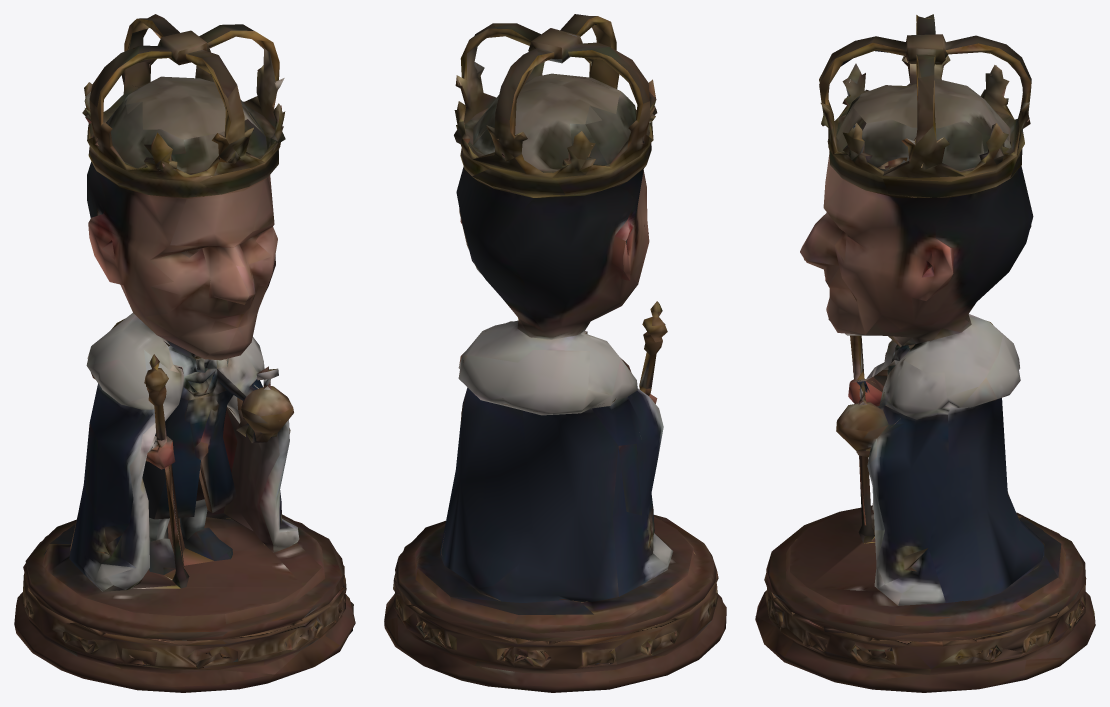
The model's file is king-riccardo-10k.glb.
3 views of the same model, side by side, from view 1: azimuth 30°, elevation 25°; view 2: azimuth 150°, elevation 25°; view 3: azimuth 270°, elevation 25° (orthographic).
Visible parts, largest first — view 1: tmpl12bltyu.ply; view 2: tmpl12bltyu.ply; view 3: tmpl12bltyu.ply.
Part boxes in pixels (x1=…): tmpl12bltyu.ply: x1=14, y1=14, x2=355, y2=692; tmpl12bltyu.ply: x1=384, y1=14, x2=726, y2=692; tmpl12bltyu.ply: x1=755, y1=14, x2=1095, y2=692.
Bounding box in the file's own units: 0.5312 × 1 × 0.5304.
1 material, 1 textured.
